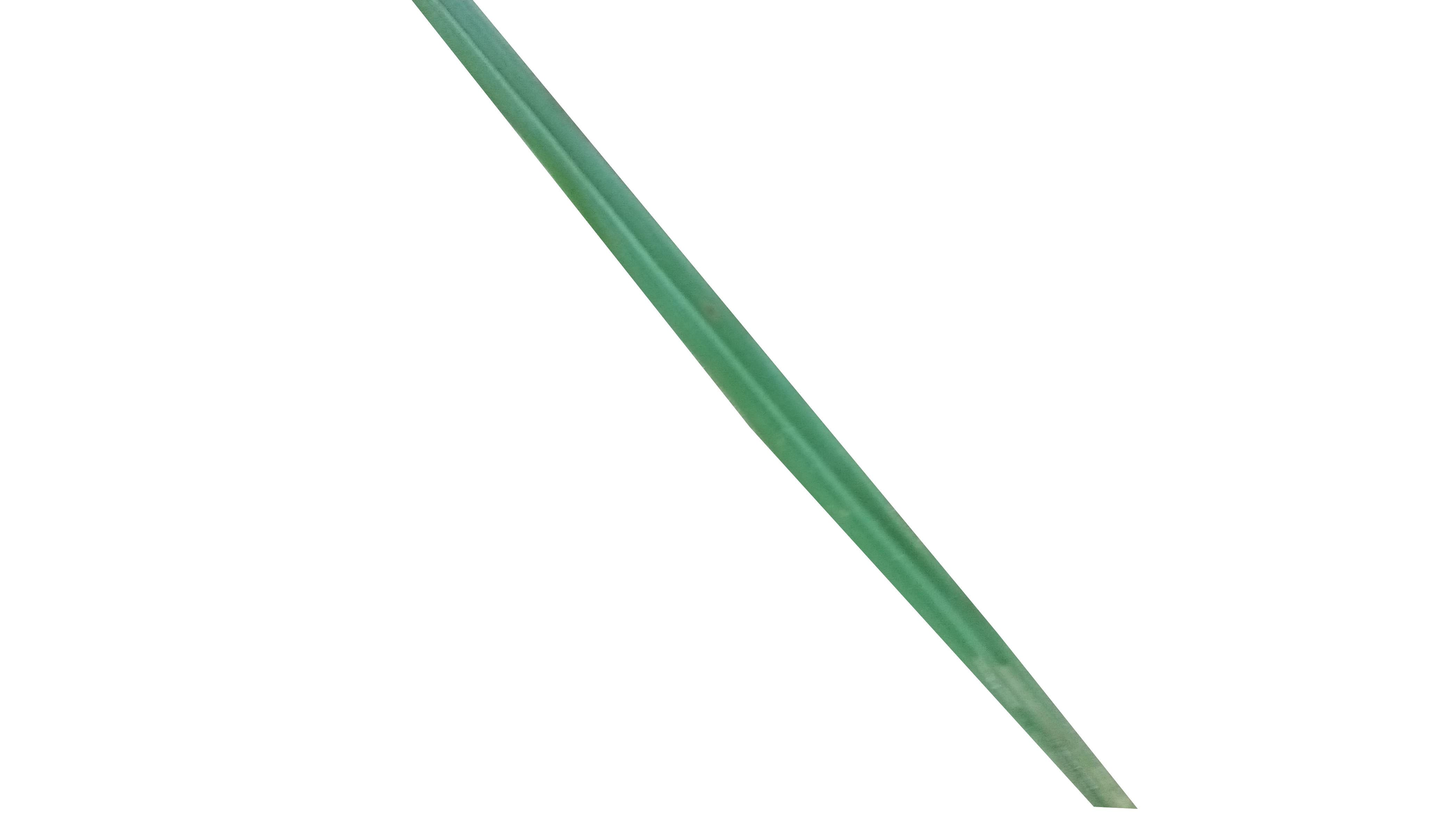Blight: (945, 606, 1146, 813)
